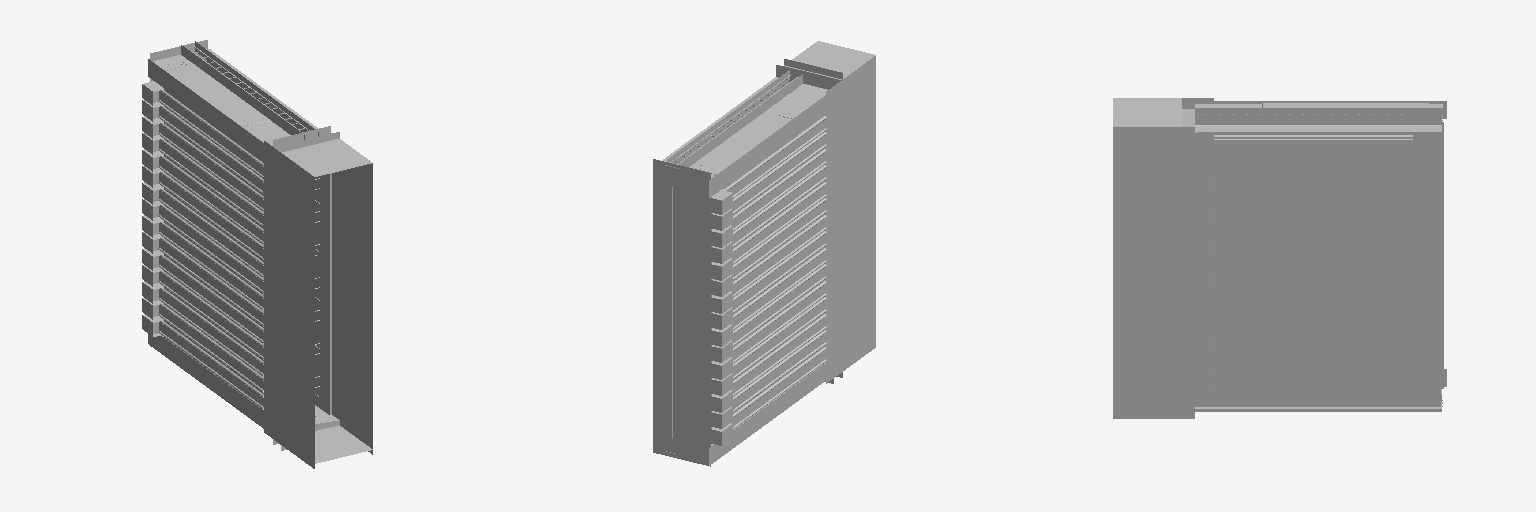
The model's file is alley1.obj.
3 views of the same model, side by side, from view 1: azimuth 30°, elevation 25°; view 2: azimuth 150°, elevation 25°; view 3: azimuth 270°, elevation 25° (orthographic).
Parts seen in each view (by area): view 1: Venue01.lwo; view 2: Venue01.lwo; view 3: Venue01.lwo.
Part boxes in pixels (x1,y1,x2,y2): Venue01.lwo: (142,40,372,468); Venue01.lwo: (653,41,875,466); Venue01.lwo: (1113,98,1446,418).
Bounding box in the file's own units: 2.57 × 11.07 × 10.98.